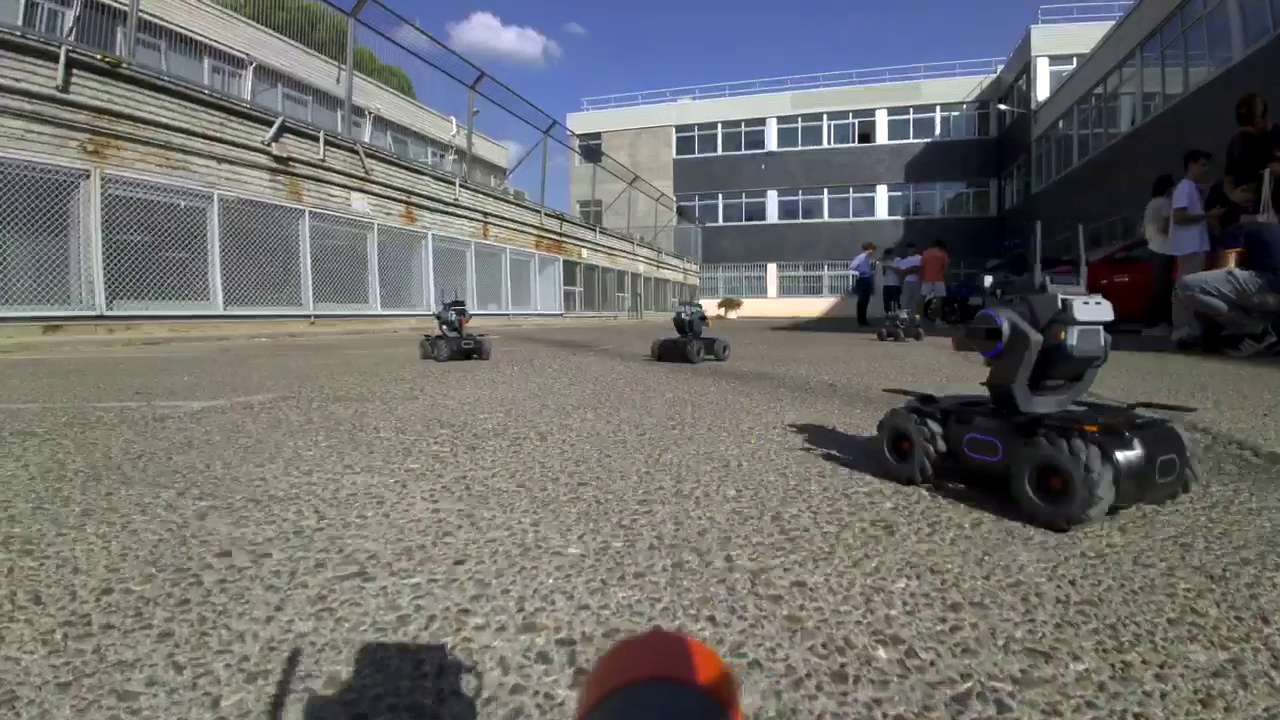robot: (872, 215, 1203, 526), (416, 286, 497, 366), (654, 285, 727, 366), (876, 301, 925, 348)
